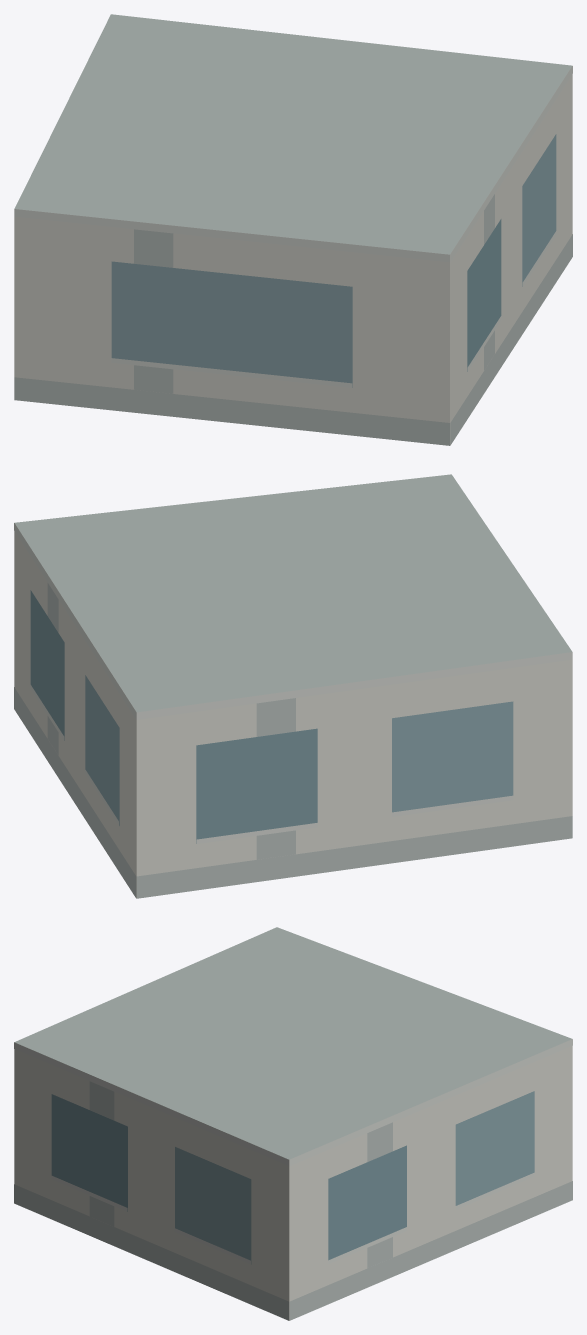
File: residential-1ba0f09b-27a7-46dd-8ba8-d1f93c4cef5b.glb
3 views of the same model, one above another, from view 1: azimuth 30°, elevation 25°; view 2: azimuth 150°, elevation 25°; view 3: azimuth 270°, elevation 25° (orthographic). The views are drawn at different scales.
Parts seen in each view (by area): view 1: residential-1ba0f09b-27a7-46dd-8ba8-d1f93c4cef5b.tmp; view 2: residential-1ba0f09b-27a7-46dd-8ba8-d1f93c4cef5b.tmp; view 3: residential-1ba0f09b-27a7-46dd-8ba8-d1f93c4cef5b.tmp.
Part boxes in pixels (x1,y1,x2,y2): residential-1ba0f09b-27a7-46dd-8ba8-d1f93c4cef5b.tmp: (14, 14, 572, 445); residential-1ba0f09b-27a7-46dd-8ba8-d1f93c4cef5b.tmp: (14, 474, 572, 898); residential-1ba0f09b-27a7-46dd-8ba8-d1f93c4cef5b.tmp: (14, 927, 572, 1320).
Size of the model in its own units: 9.46 by 3.05 by 9.59.
